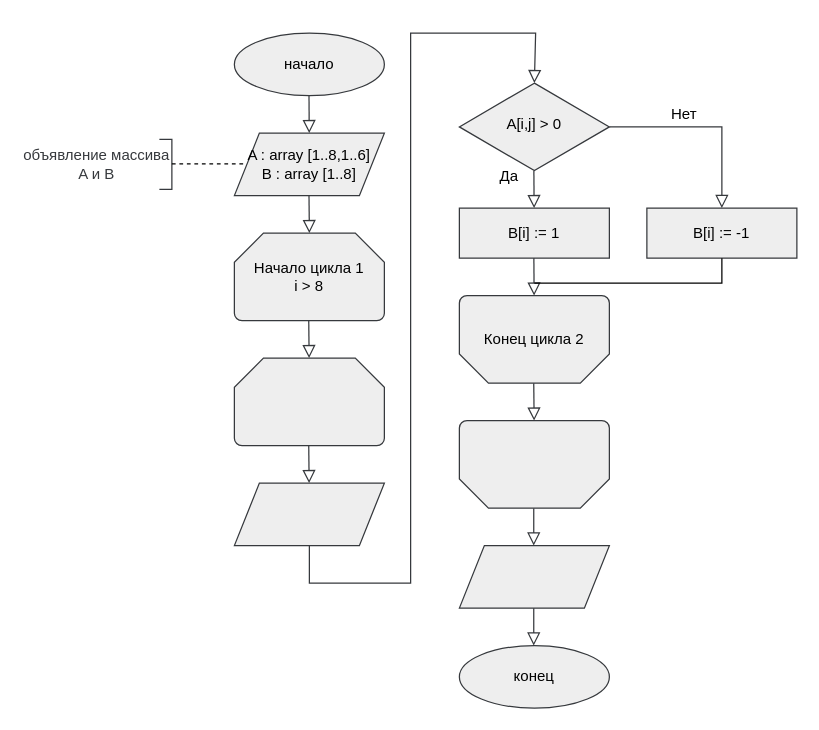
This 819x730 diagram has some shape labels left out. The shapes that lost their labels are listed below. From the top down, each one's box as (x1, y1, x2, y2) in pixels, then its label:
(233, 357, 384, 446): Начало цикла 2 j > 6
(458, 419, 609, 508): Конец цикла 1
(233, 482, 384, 546): Считывание значения A[i,j] с клавиатуры
(458, 544, 609, 608): Вывод B
